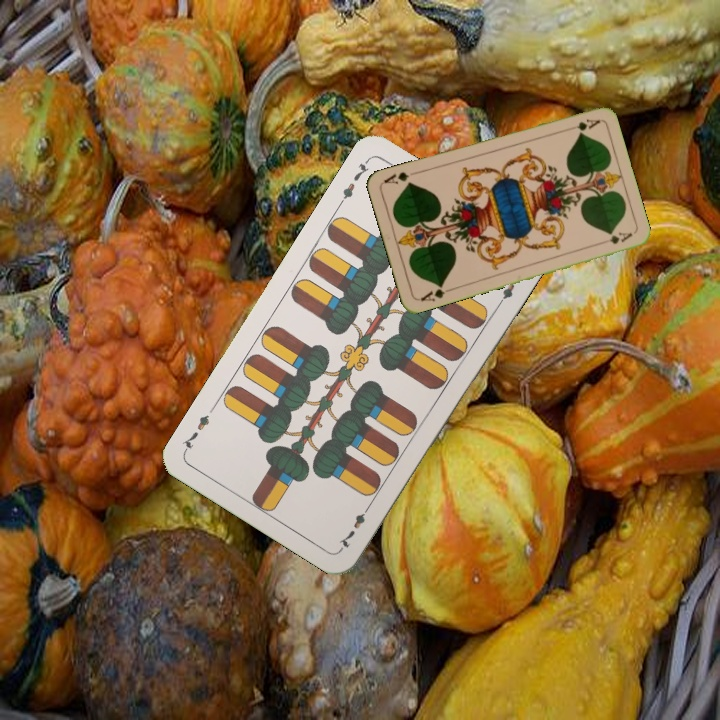E7: (335, 499, 374, 552), (334, 155, 372, 208)
GA: (415, 280, 455, 304), (573, 115, 602, 134)
